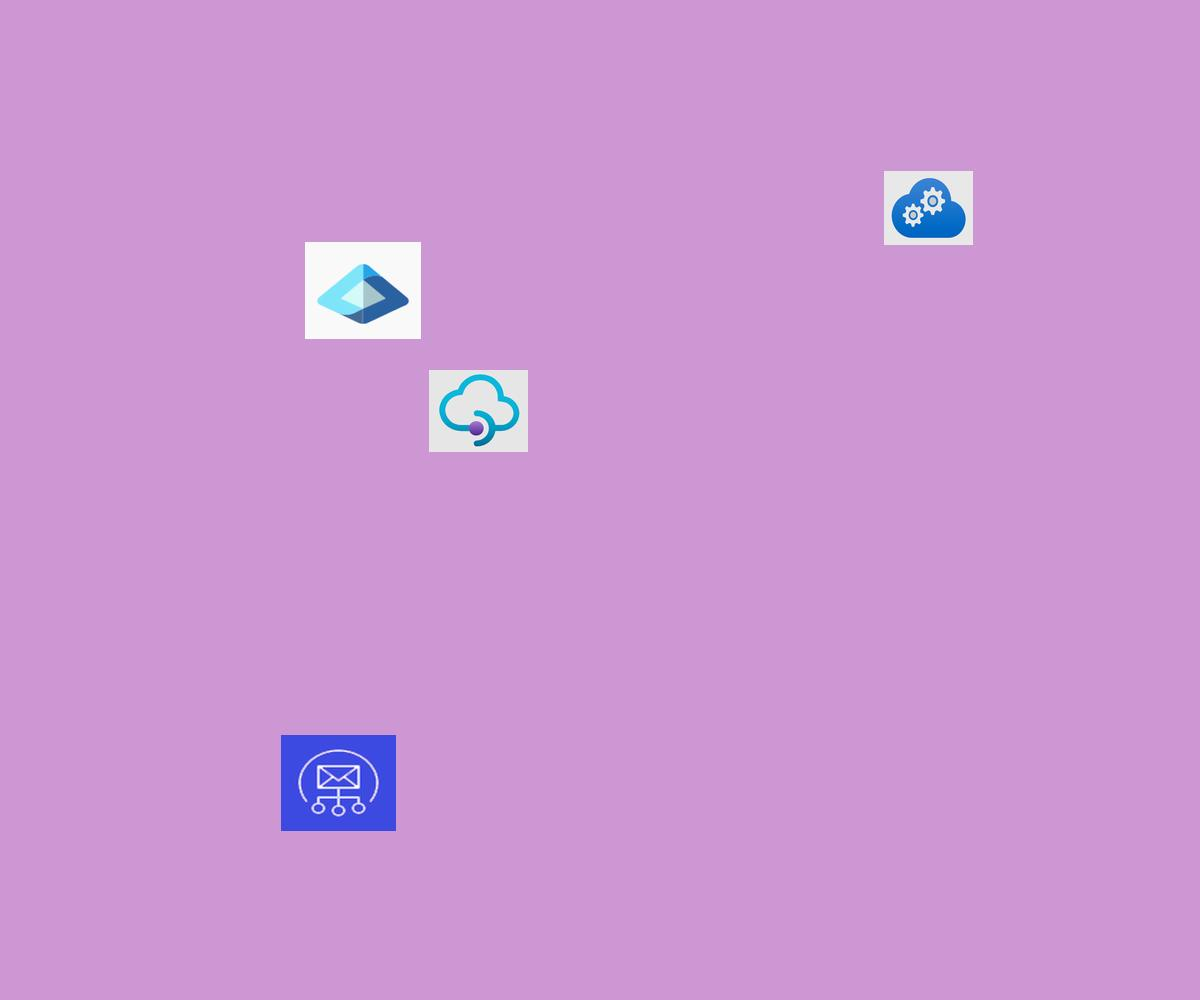AWS-Simple-Email-Service: (281, 735, 396, 831)
Azure_api_gateway: (429, 370, 528, 452)
Azure_cloud_services: (884, 171, 973, 245)
Azure_microsoft_entra: (305, 242, 421, 339)
